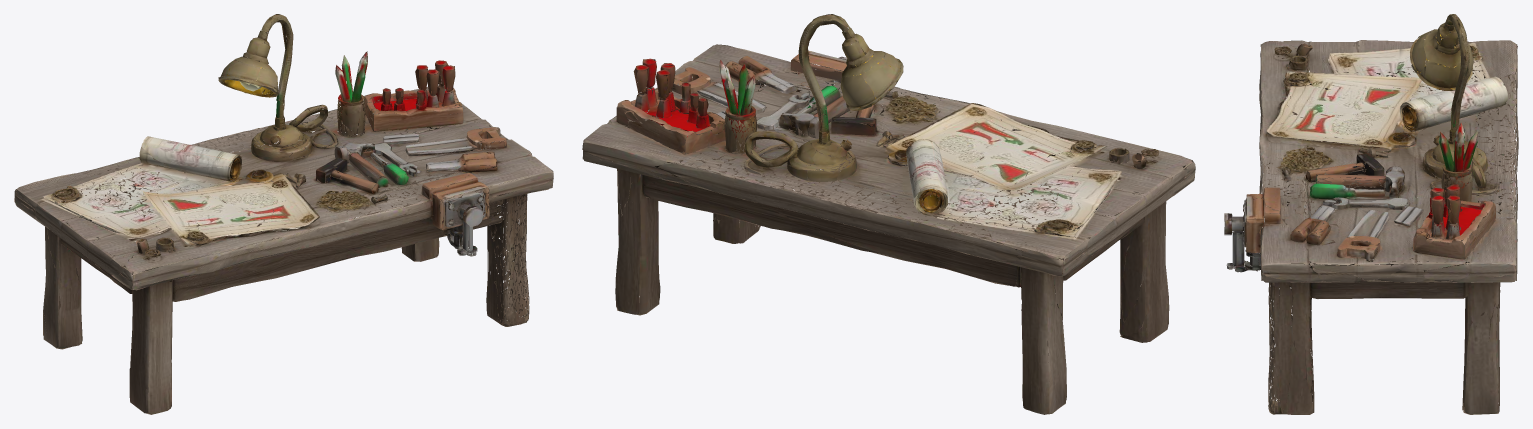
Rendered from workbench.glb.
3 renders of one model, left to right at view 1: azimuth 30°, elevation 25°; view 2: azimuth 150°, elevation 25°; view 3: azimuth 270°, elevation 25°, orthographic. The views are drawn at different scales.
Visible parts, largest first — view 1: Workbench; view 2: Workbench; view 3: Workbench.
Boxes of the visible parts, bbox=[...] form: Workbench: bbox=[14, 14, 553, 414]; Workbench: bbox=[582, 14, 1195, 414]; Workbench: bbox=[1224, 14, 1518, 414].
Bounding box in the file's own units: 1.4 × 0.9 × 0.7746.
1 material, 1 textured.
